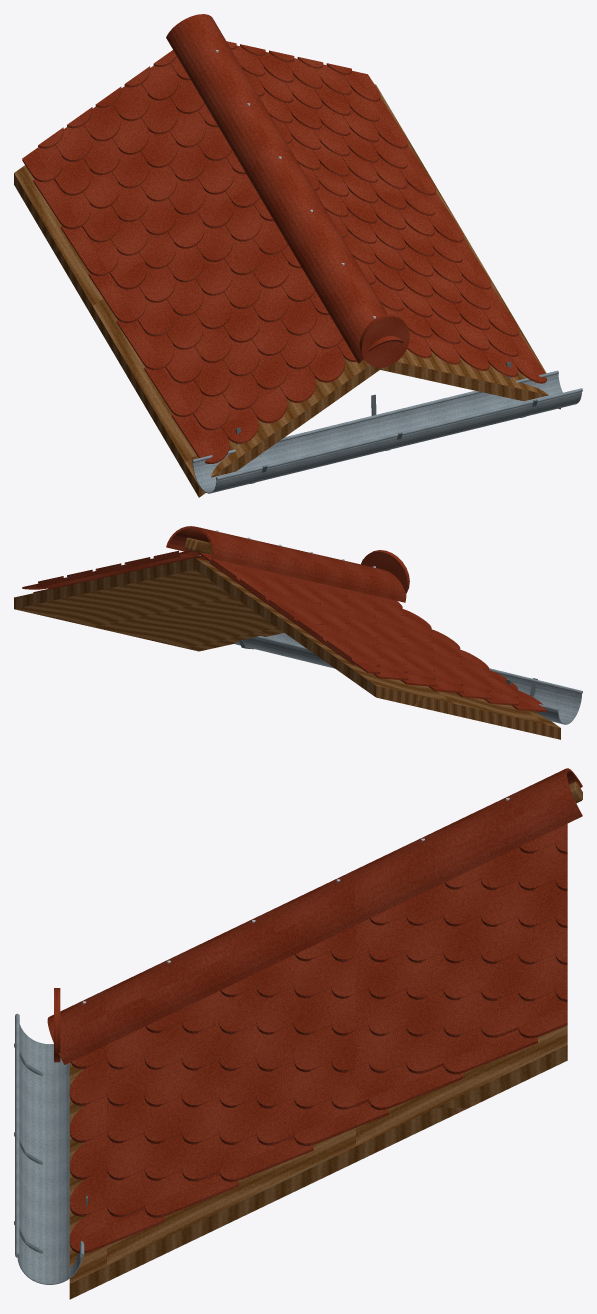
The model's file is modell.glb.
The picture shows the model from 3 angles, top to bottom: view 1: azimuth 30°, elevation 25°; view 2: azimuth 150°, elevation 25°; view 3: azimuth 270°, elevation 25°; orthographic projection. The views are drawn at different scales.
Parts seen in each view (by area): view 1: w02-ziegel_deckung, w02-gratziegel_deckung, w02-walmflaeche_tragwerk, w02-rinne_, w02-gratfuss_deckung; view 2: w02-walmflaeche_tragwerk, w02-ziegel_deckung, w02-gratziegel_deckung, w02-rinne_, w02-gratfuss_deckung, w02-gratlatte_lattung; view 3: w02-ziegel_deckung, w02-gratziegel_deckung, w02-walmflaeche_tragwerk, w02-rinne_.
Part boxes in pixels (bbox=[...]): w02-ziegel_deckung: bbox=[22, 41, 546, 463]; w02-gratziegel_deckung: bbox=[166, 14, 403, 363]; w02-walmflaeche_tragwerk: bbox=[14, 84, 560, 497]; w02-rinne_: bbox=[192, 370, 582, 493]; w02-gratfuss_deckung: bbox=[359, 314, 409, 367]; w02-walmflaeche_tragwerk: bbox=[14, 558, 560, 739]; w02-ziegel_deckung: bbox=[22, 550, 546, 712]; w02-gratziegel_deckung: bbox=[166, 526, 406, 602]; w02-rinne_: bbox=[234, 633, 582, 724]; w02-gratfuss_deckung: bbox=[361, 550, 409, 593]; w02-gratlatte_lattung: bbox=[184, 537, 211, 553]; w02-ziegel_deckung: bbox=[69, 823, 567, 1253]; w02-gratziegel_deckung: bbox=[47, 768, 582, 1064]; w02-walmflaeche_tragwerk: bbox=[69, 1025, 567, 1299]; w02-rinne_: bbox=[15, 1013, 84, 1284].
Bounding box in the file's own units: 2.28 × 1.81 × 2.28.
5 materials, 3 textured.
